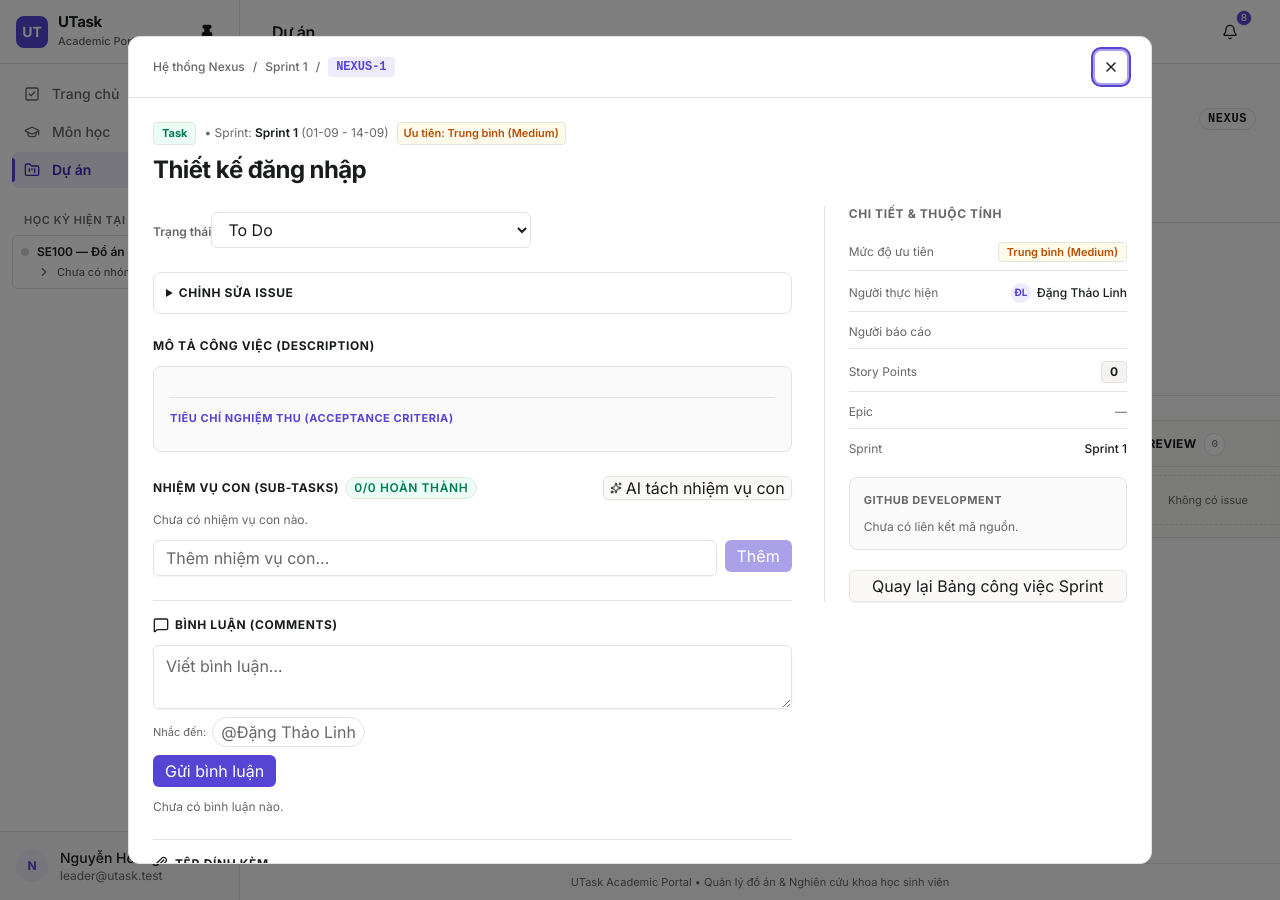
Test: AI task decomposition › polls an asynchronous request until the suggestions arrive
This screenshot has width=1280, height=900.
Click the button "AI tách nhiệm vụ con": (697,488) [603,476,792,500]
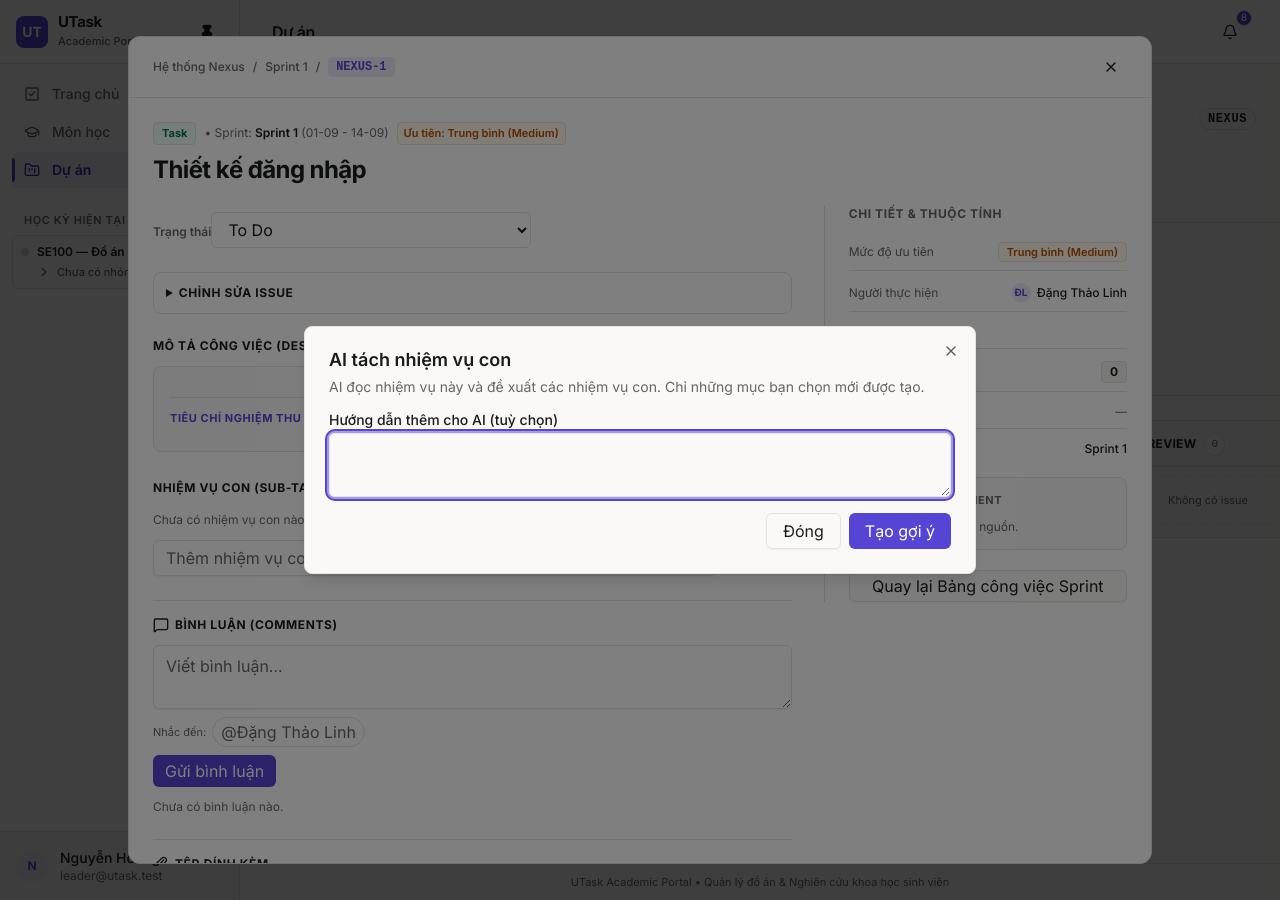
Click the button "Tạo gợi ý": (900,531) [849,513,951,549]
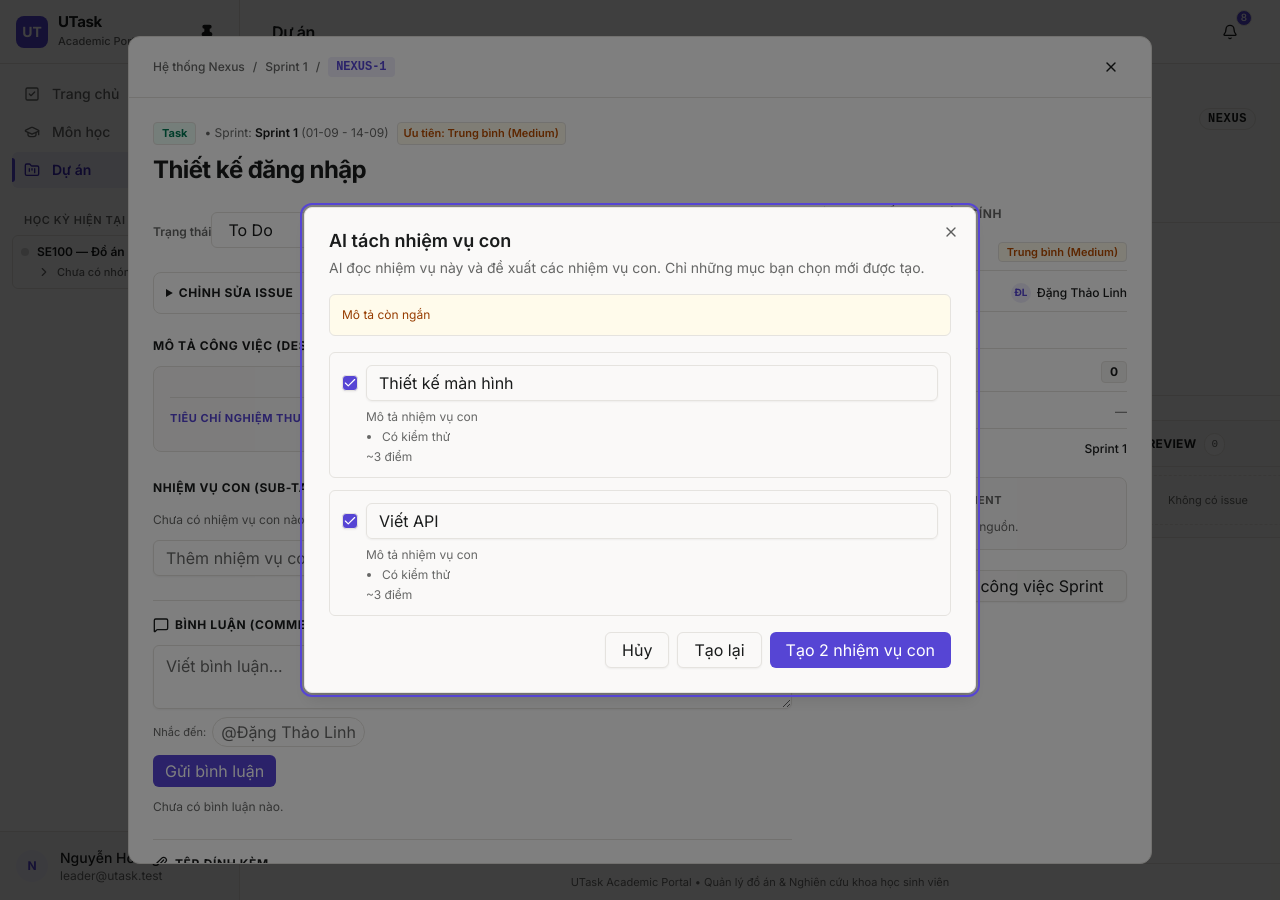
Check: the field showing "Viết API" is shown, box [366,503,938,539]
